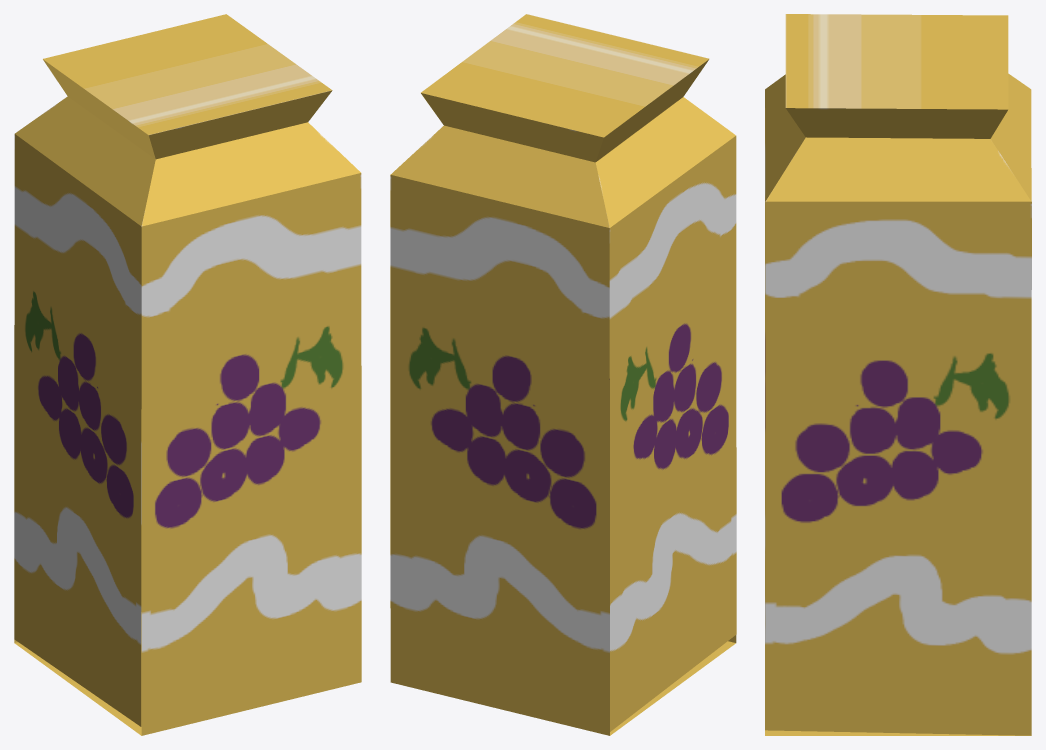
The model's file is grapes.glb.
3 renders of one model, left to right at view 1: azimuth 30°, elevation 25°; view 2: azimuth 150°, elevation 25°; view 3: azimuth 270°, elevation 25°, orthographic. The views are drawn at different scales.
Parts seen in each view (by area): view 1: grapes; view 2: grapes; view 3: grapes.
Boxes of the visible parts, left/top/right/bottom form: grapes: left=14, top=14, right=361, bottom=735; grapes: left=390, top=14, right=736, bottom=735; grapes: left=765, top=14, right=1031, bottom=735.
Size of the model in its own units: 0.1525 by 0.3897 by 0.1525.
Materials: 1 (1 with a texture image).
